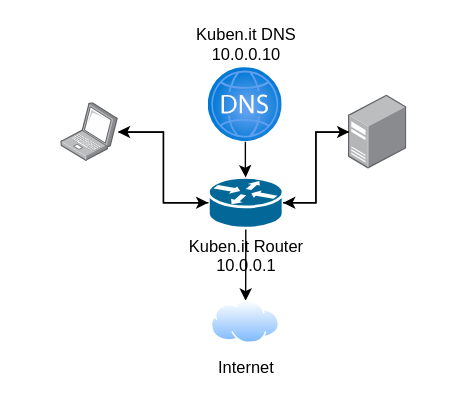
The diagram is 449 pixels wide and 400 high, and some of its shapes have lost their labels. The box of each missing label's shape, as (x1, y1, x2, y2) in pixels:
smhimi2-15 Client 10.200.14.70: (60, 102, 118, 161)
sspi Server 10.200.14.71: (348, 95, 406, 169)
